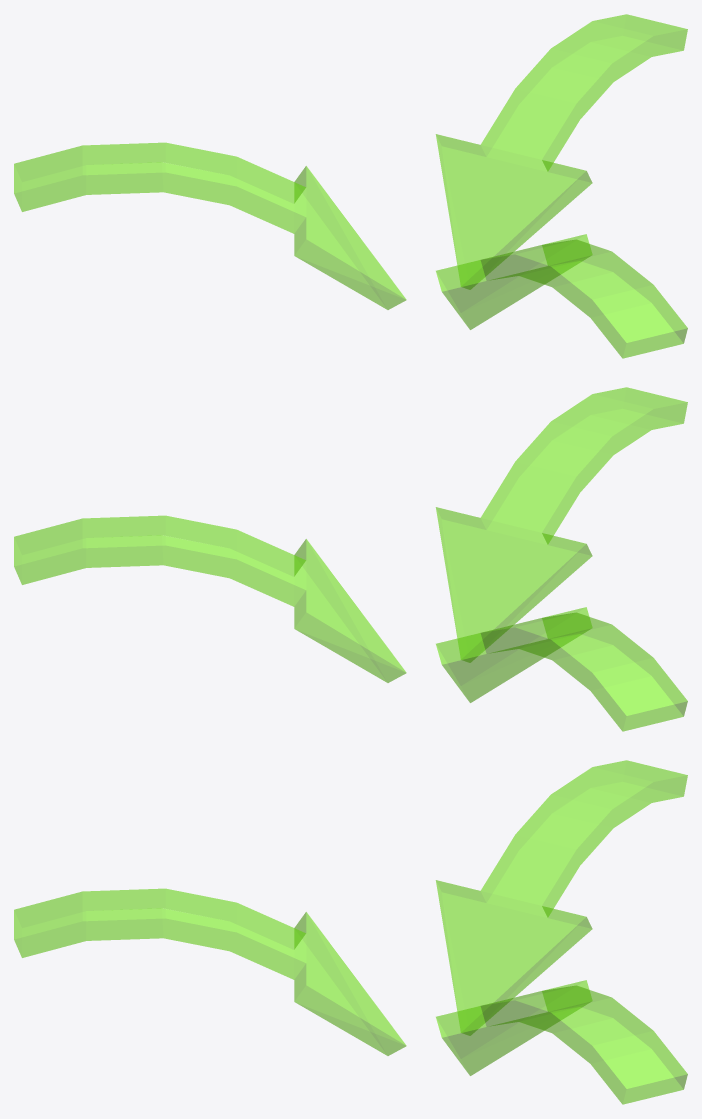
The model's file is Point.fbx.
3 renders of one model, top to bottom at view 1: azimuth 30°, elevation 25°; view 2: azimuth 150°, elevation 25°; view 3: azimuth 270°, elevation 25°, orthographic.
Visible parts, largest first — view 1: St; view 2: St; view 3: St.
Boxes of the visible parts, x1,y1,x2,y2 form: St: [14, 14, 687, 358]; St: [14, 387, 687, 731]; St: [14, 760, 687, 1104].
Bounding box in the file's own units: 1768 × 383 × 1531.
